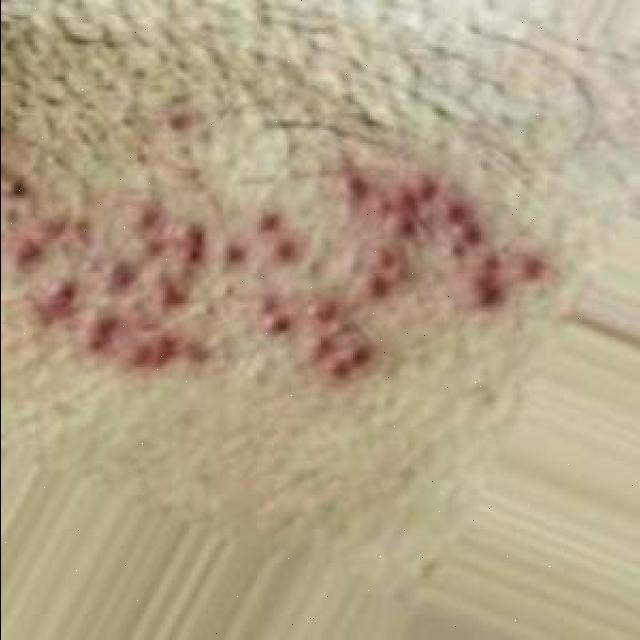Shingles: (13, 172, 545, 375)
